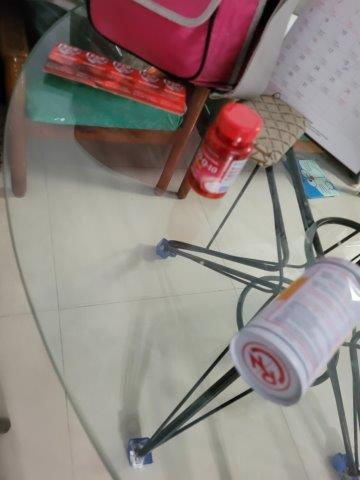kaleng: (229, 259, 360, 408)
